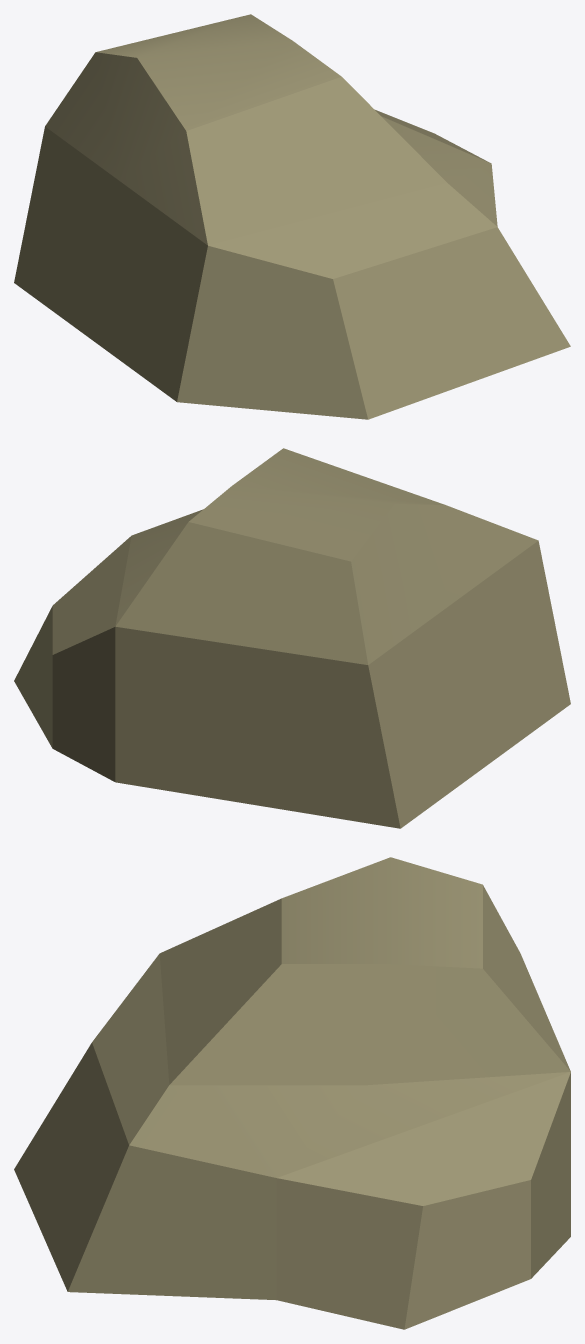
File: Rock2_SM.fbx
The picture shows the model from 3 angles, top to bottom: view 1: azimuth 30°, elevation 25°; view 2: azimuth 150°, elevation 25°; view 3: azimuth 270°, elevation 25°; orthographic projection. The views are drawn at different scales.
Parts seen in each view (by area): view 1: Rock2_SM; view 2: Rock2_SM; view 3: Rock2_SM.
Part boxes in pixels (x1,y1,x2,y2): Rock2_SM: (14,14,570,419); Rock2_SM: (14,448,570,828); Rock2_SM: (14,857,570,1329).
Bounding box in the file's own units: 70.46 × 40.21 × 72.68.
